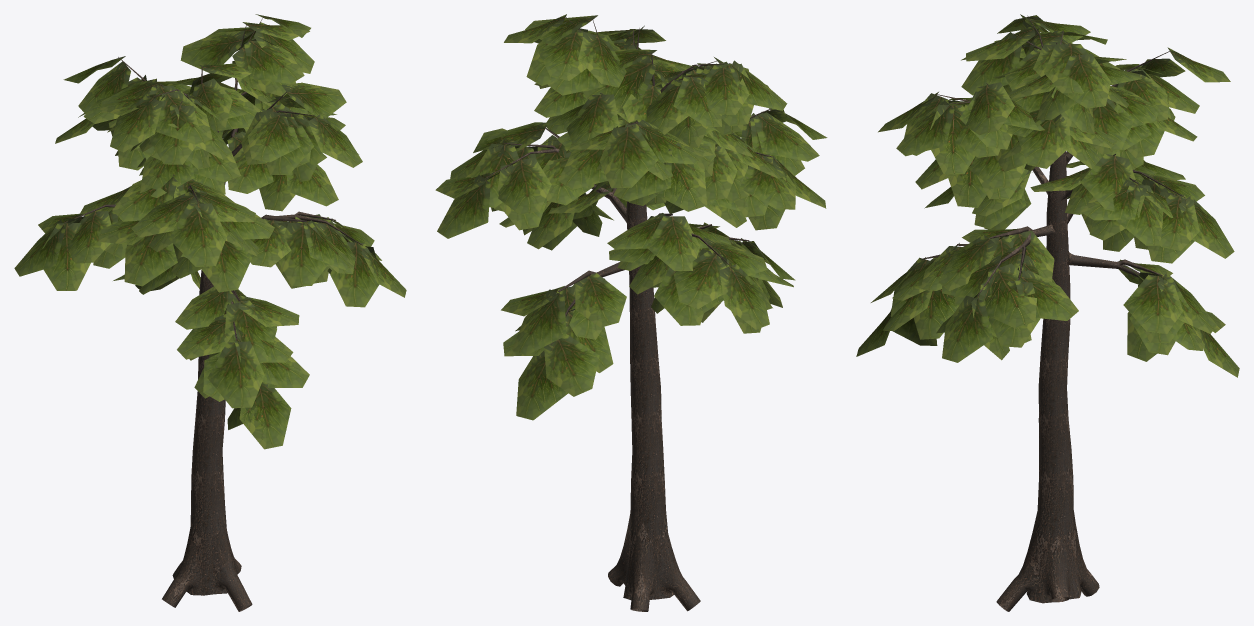
File: BigTree.fbx
3 views of the same model, side by side, from view 1: azimuth 30°, elevation 25°; view 2: azimuth 150°, elevation 25°; view 3: azimuth 270°, elevation 25° (orthographic). The views are drawn at different scales.
Visible parts, largest first — view 1: LOD0; view 2: LOD0; view 3: LOD0.
Part boxes in pixels (<box>): LOD0: <box>14,14,406,611</box>; LOD0: <box>435,14,827,611</box>; LOD0: <box>856,14,1239,611</box>.
Size of the model in its own units: 1551 by 2703 by 1602.
